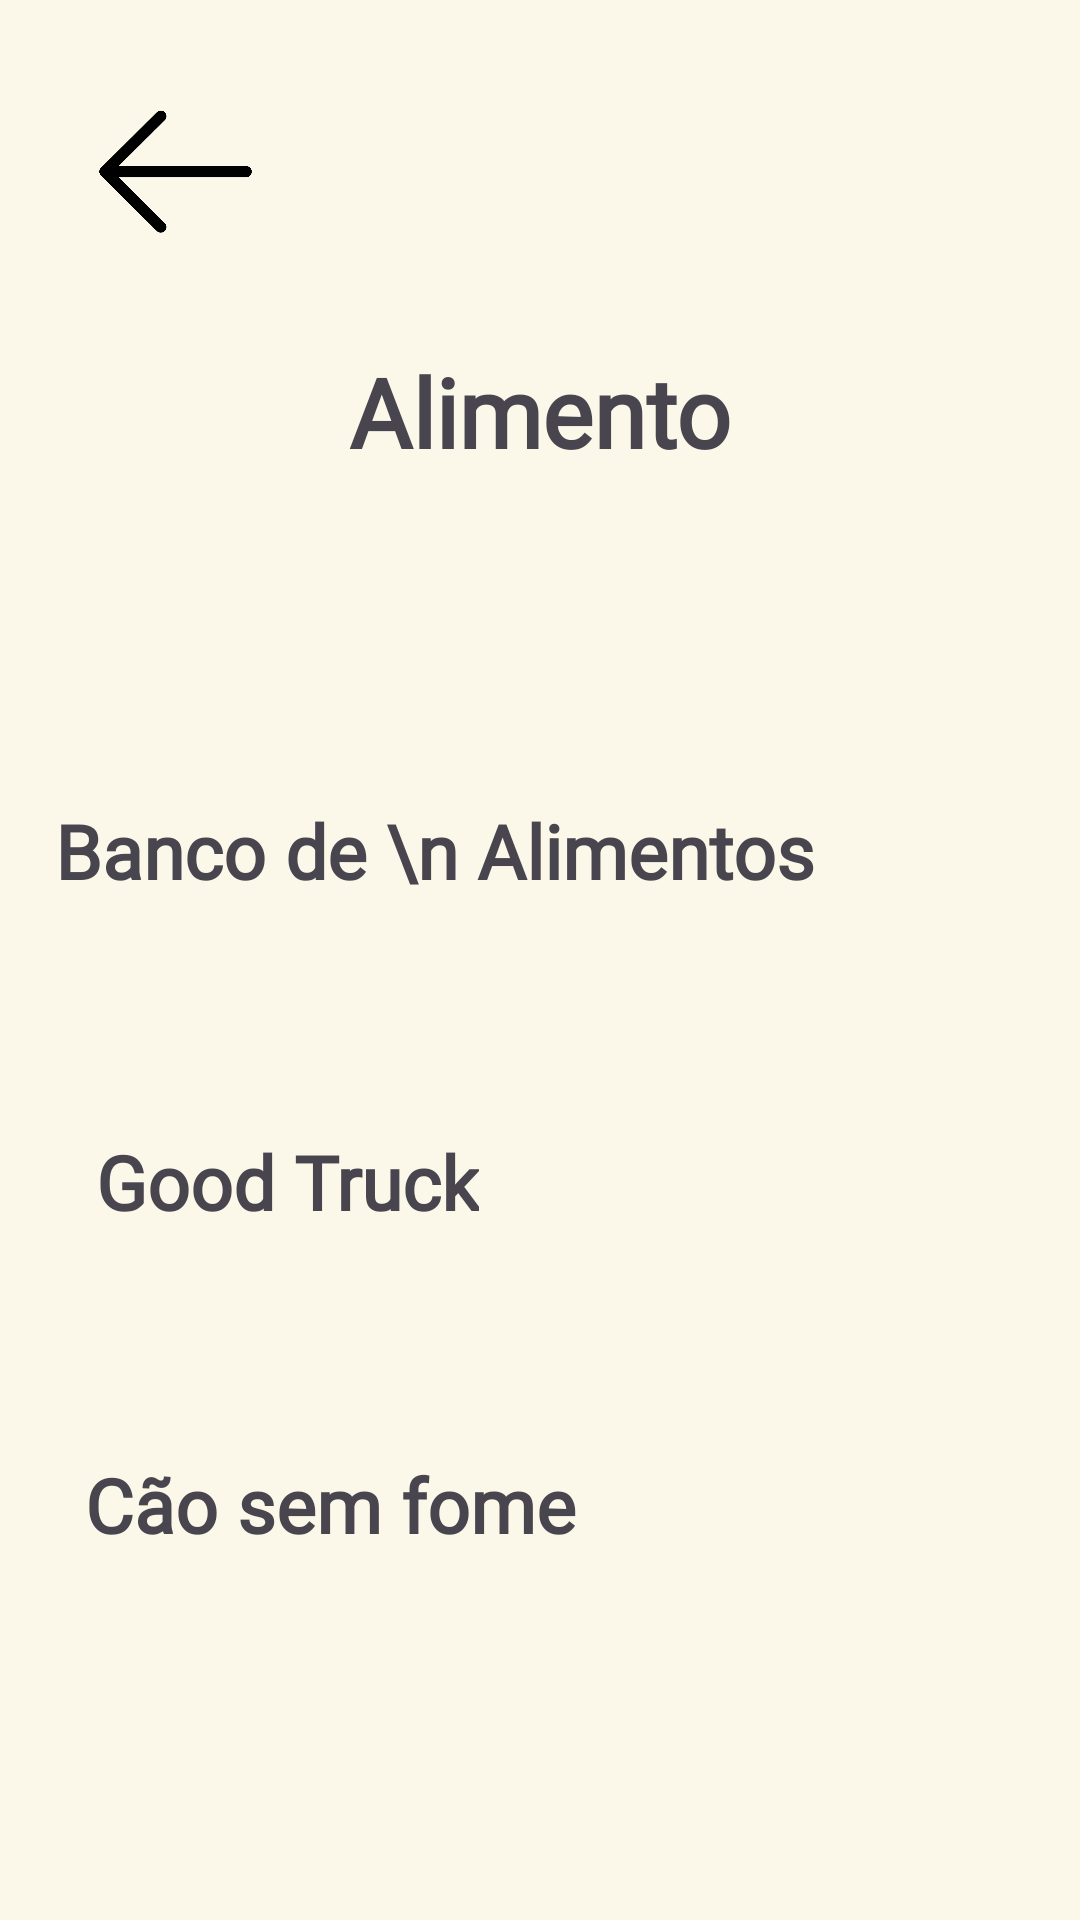

Icons on this 1080x1920 Android screen, each with its box as (x1, y1, x2, y2):
arrow back: (99, 111, 252, 233)
